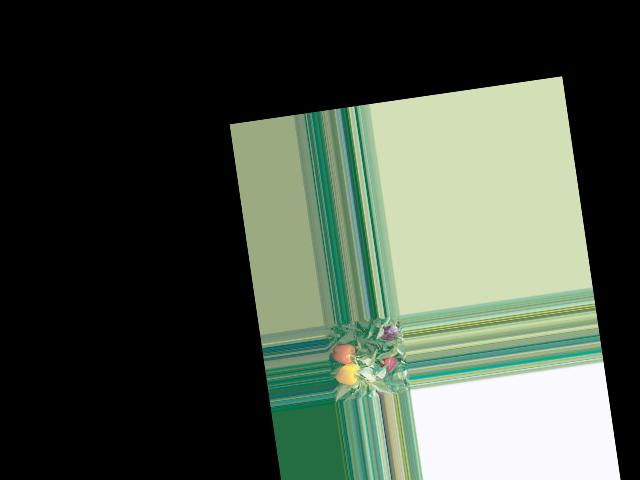bell_pepper: (334, 357, 362, 387)
